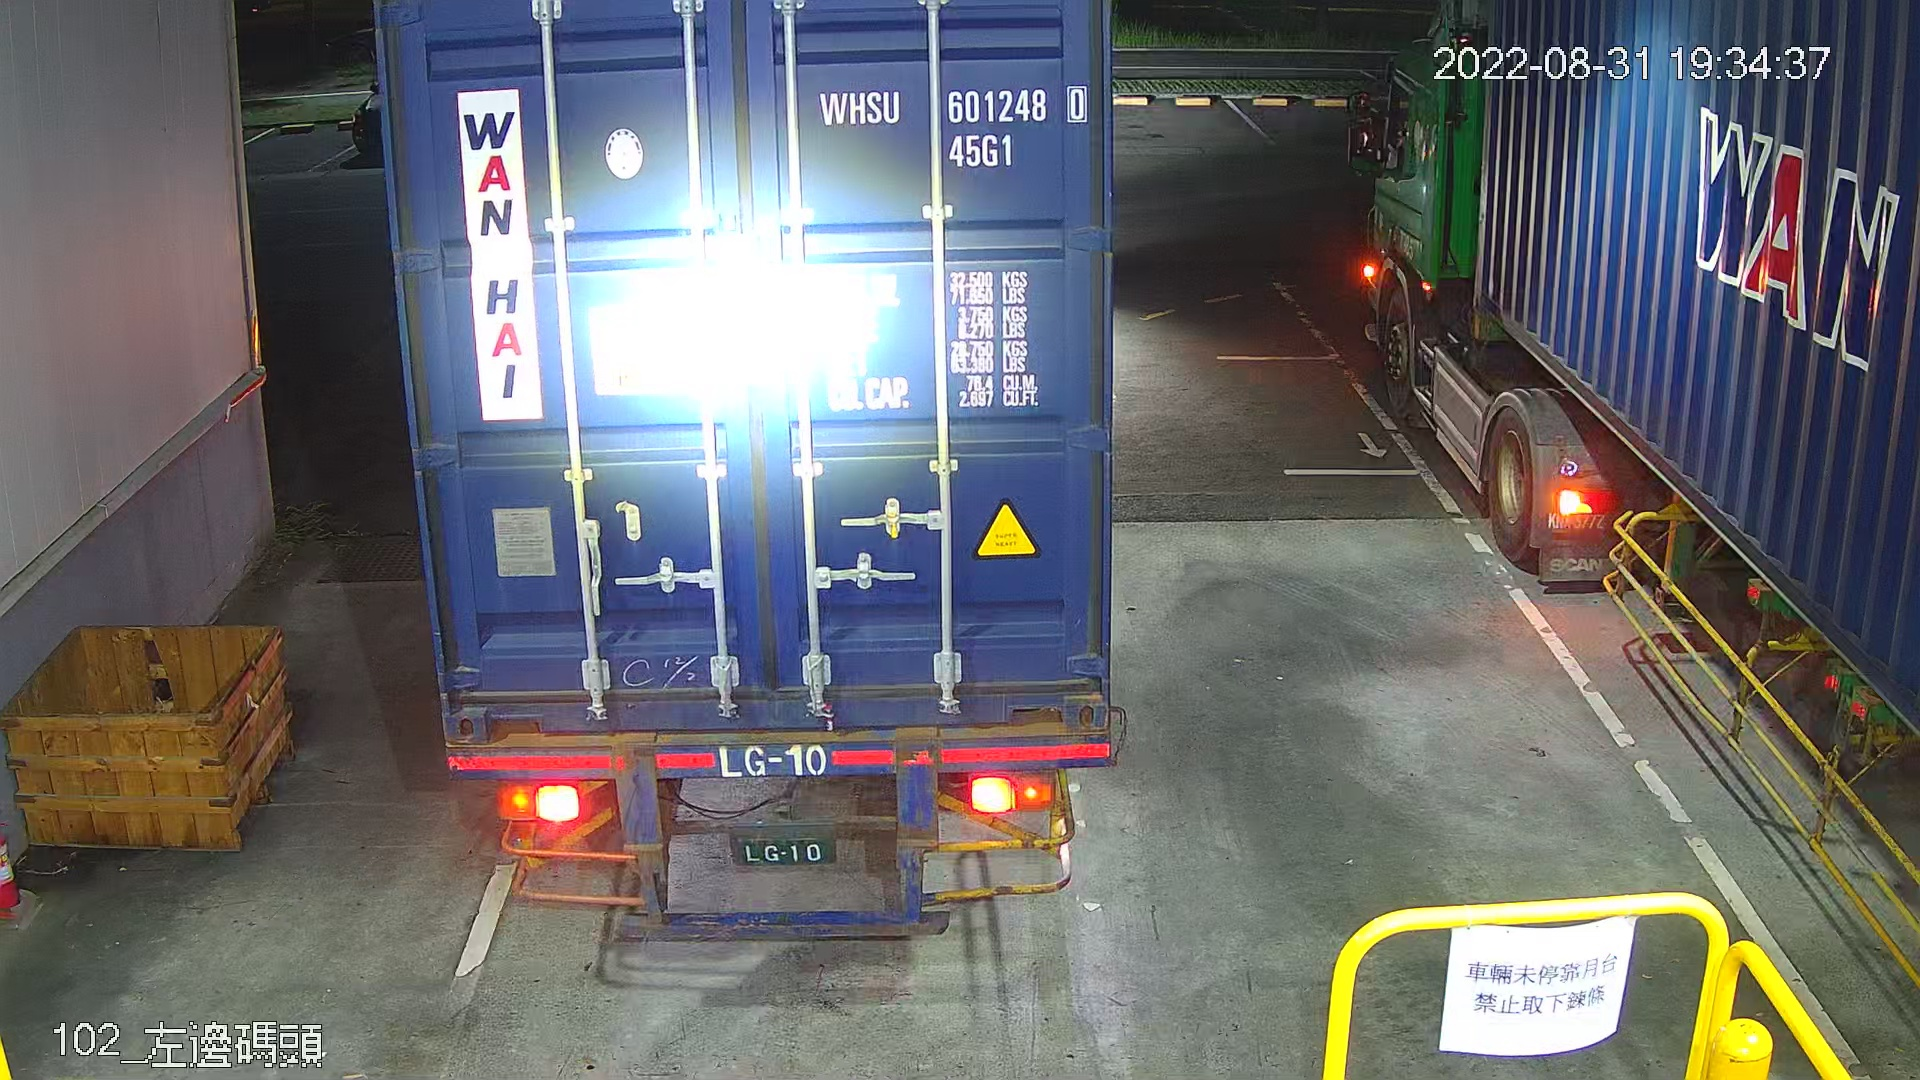container: (812, 73, 1098, 175)
